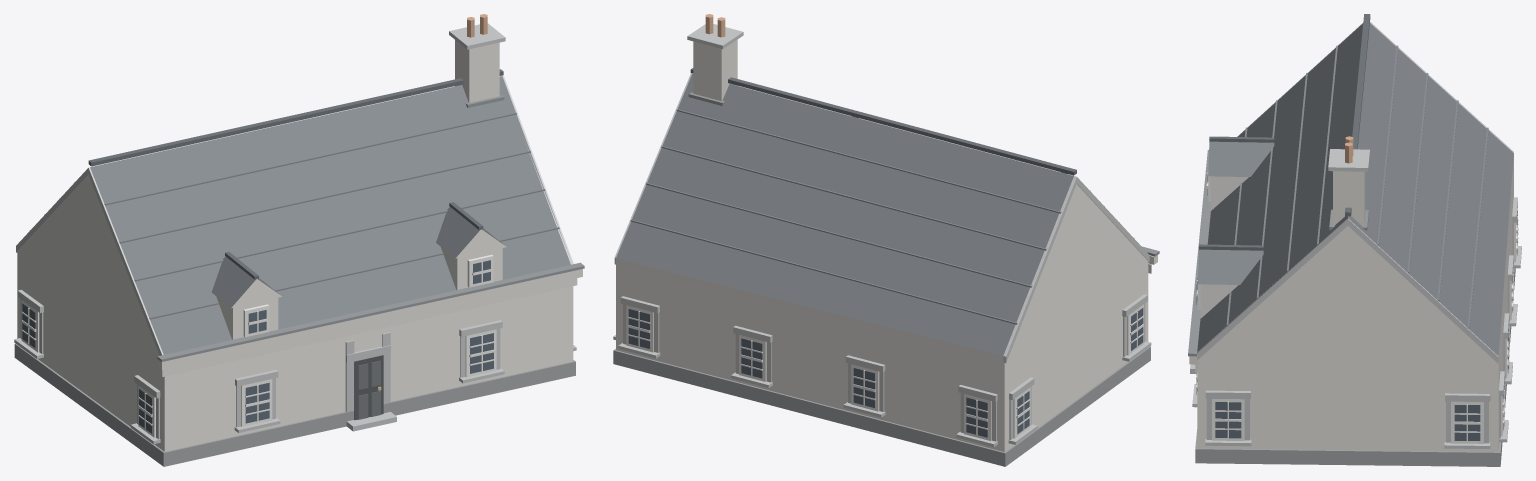
The picture shows the model from 3 angles, left to right: view 1: azimuth 30°, elevation 25°; view 2: azimuth 150°, elevation 25°; view 3: azimuth 270°, elevation 25°; orthographic projection. The views are drawn at different scales.
Visible parts, largest first — view 1: slate, harl, stone_band, plinth, string, slate_lt, frame, lead, slate_dk, chim_render, door_dark_p, door_dark (+2 smaller); view 2: slate, harl, stone_band, plinth, slate_lt, frame, slate_dk, chim_render, window_glass_007, window_glass_010, window_glass_008, window_glass_009; view 3: slate, harl, stone_band, plinth, slate_lt, frame, slate_dk, chim_render, lead, window_glass_005, window_glass_006.
Part boxes in pixels (x1,y1,x2,y2): slate: (90, 76, 570, 354); harl: (17, 175, 573, 451); stone_band: (14, 23, 576, 444); plinth: (14, 343, 575, 466); string: (158, 269, 582, 376); slate_lt: (29, 112, 559, 319); frame: (21, 254, 496, 437); lead: (157, 95, 584, 361); slate_dk: (88, 69, 503, 279); chim_render: (455, 40, 499, 102); door_dark_p: (358, 360, 380, 419); door_dark: (354, 355, 383, 420); slate: (616, 74, 1073, 355); harl: (616, 184, 1148, 452); stone_band: (613, 24, 1151, 447); plinth: (613, 346, 1150, 466); slate_lt: (630, 109, 1119, 324); frame: (626, 304, 1143, 440); slate_dk: (690, 68, 1076, 175); chim_render: (693, 39, 737, 100); window_glass_007: (628, 309, 649, 348); window_glass_010: (966, 397, 987, 437); window_glass_008: (741, 338, 762, 378); window_glass_009: (853, 368, 874, 407); slate: (1197, 23, 1513, 355); harl: (1197, 154, 1513, 451); stone_band: (1190, 22, 1521, 448); plinth: (1195, 268, 1515, 466); slate_lt: (1226, 45, 1488, 328); frame: (1196, 172, 1518, 443); slate_dk: (1199, 14, 1370, 250); chim_render: (1333, 171, 1365, 226); lead: (1188, 150, 1368, 356); window_glass_005: (1215, 402, 1241, 438); window_glass_006: (1454, 405, 1480, 440).
Bounding box in the file's own units: 14.2 × 9.93 × 9.67.
